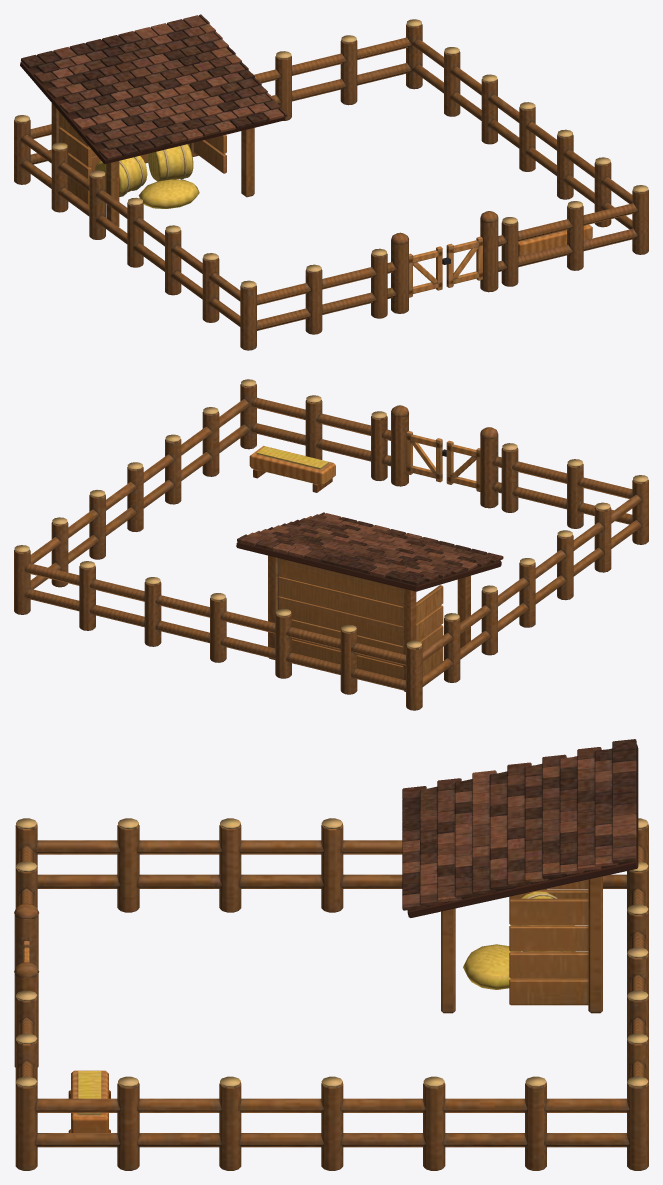
Rendered from yak_pasture.glb.
3 renders of one model, top to bottom at view 1: azimuth 30°, elevation 25°; view 2: azimuth 150°, elevation 25°; view 3: azimuth 270°, elevation 25°, orthographic. The views are drawn at different scales.
Parts seen in each view (by area): view 1: yak_pasture; view 2: yak_pasture; view 3: yak_pasture.
Boxes of the visible parts, box(x1,y1,x2,y2) form: yak_pasture: box(14, 14, 648, 350); yak_pasture: box(14, 379, 648, 710); yak_pasture: box(14, 739, 648, 1170).
Size of the model in its own units: 3 by 0.9345 by 3.01.
Materials: 1 (1 with a texture image).
